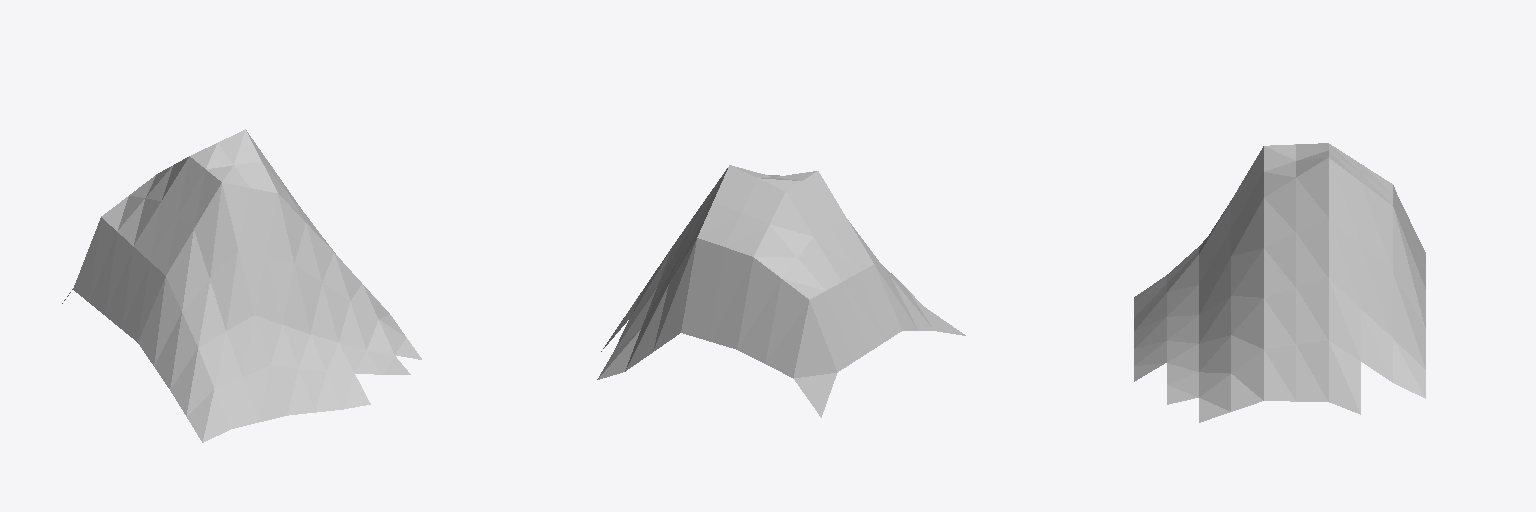
Rendered from tree_51.obj.
The picture shows the model from 3 angles: view 1: azimuth 30°, elevation 25°; view 2: azimuth 150°, elevation 25°; view 3: azimuth 270°, elevation 25°; orthographic projection.
Parts seen in each view (by area): view 1: tree_51.001; view 2: tree_51.001; view 3: tree_51.001.
Part boxes in pixels (left/top/right/bottom): tree_51.001: left=62, top=129, right=421, bottom=442; tree_51.001: left=597, top=165, right=965, bottom=417; tree_51.001: left=1134, top=143, right=1425, bottom=422.
Size of the model in its own units: 4.5 by 3.59 by 4.5.